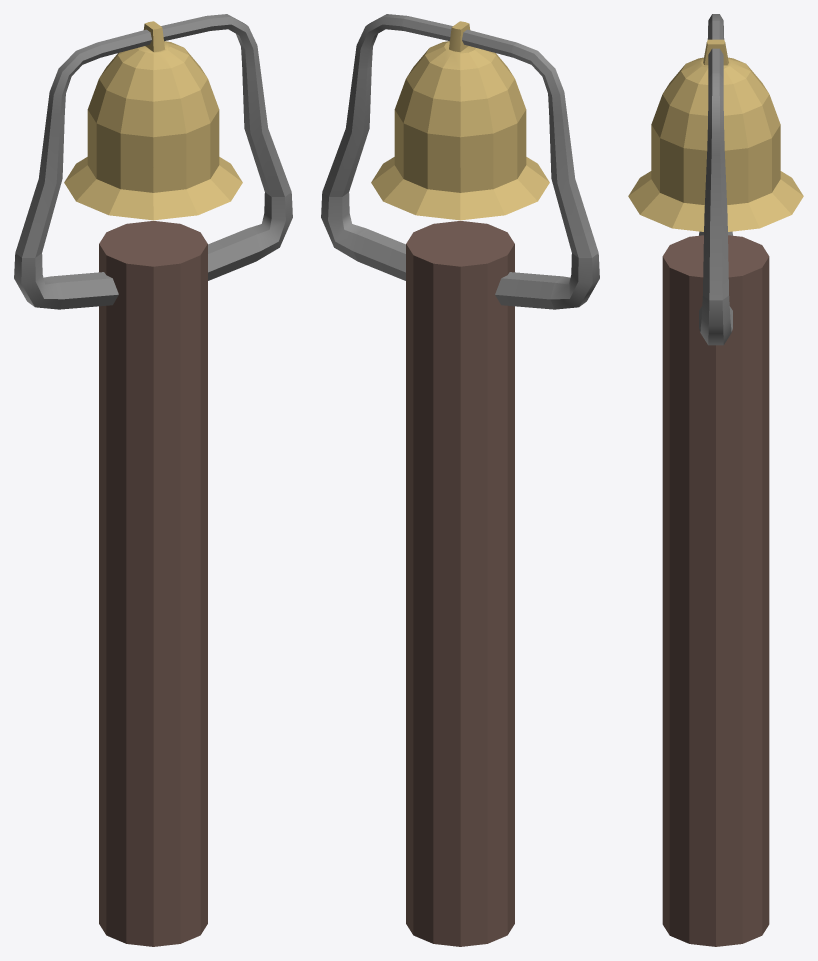
The model's file is Bell.fbx.
3 renders of one model, left to right at view 1: azimuth 30°, elevation 25°; view 2: azimuth 150°, elevation 25°; view 3: azimuth 270°, elevation 25°, orthographic.
Visible parts, largest first — view 1: pCylinder8, pCylinder1, pCylinder7; view 2: pCylinder8, pCylinder1, pCylinder7; view 3: pCylinder8, pCylinder1, pCylinder7.
Boxes of the visible parts, left/top/right/bottom form: pCylinder8: left=99, top=221, right=207, bottom=946; pCylinder1: left=64, top=21, right=242, bottom=220; pCylinder7: left=14, top=14, right=292, bottom=309; pCylinder8: left=406, top=221, right=514, bottom=946; pCylinder1: left=371, top=21, right=549, bottom=220; pCylinder7: left=321, top=14, right=599, bottom=309; pCylinder8: left=662, top=235, right=769, bottom=946; pCylinder1: left=628, top=39, right=803, bottom=231; pCylinder7: left=699, top=14, right=732, bottom=345.
Size of the model in its own units: 36.7 by 116 by 20.93.
